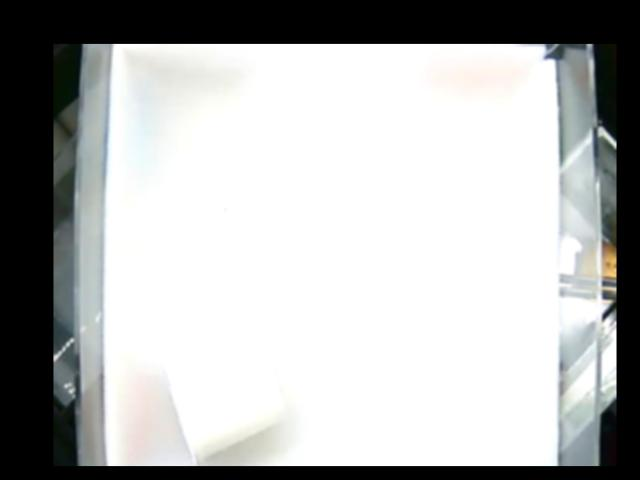Cup: (164, 346, 283, 466)
